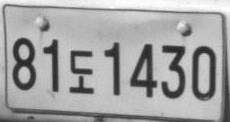0: (191, 44, 216, 101)
1: (101, 42, 128, 96), (41, 38, 66, 92)
3: (160, 44, 186, 99)
4: (129, 43, 158, 98)
8: (11, 36, 37, 91)
도: (68, 49, 94, 93)
